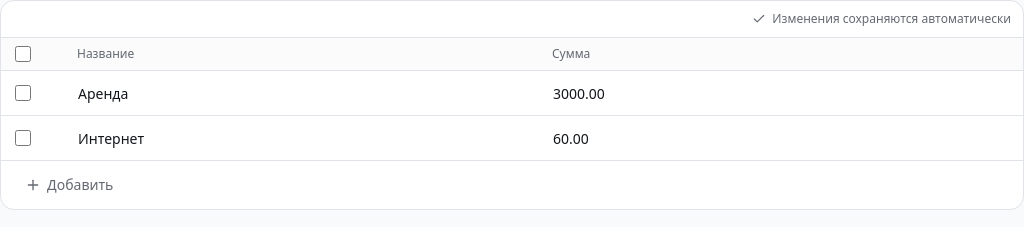
Test case: EditableTable › shows the server error and keeps the typed value
Replace the text in the 1st field named "Сумма" with "1" at (780, 93), box [544,75,1015,111]
Then press Enter
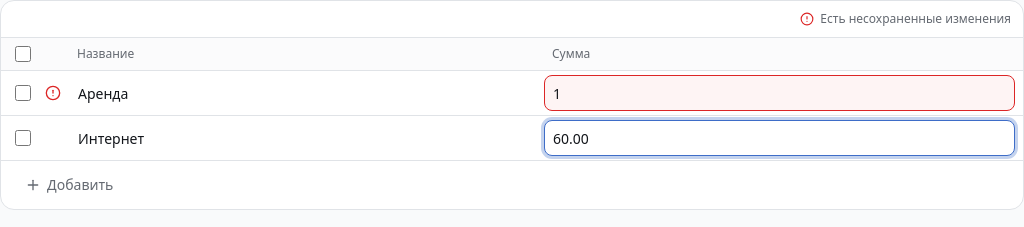
Now the text "Есть несохраненные изменения" is shown, box [800,11,1011,27]
